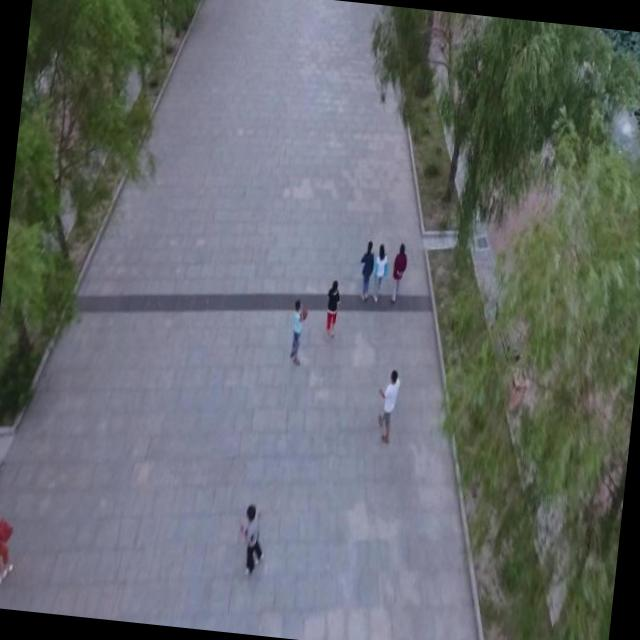person: (236, 496, 269, 580), (373, 368, 404, 443), (286, 296, 310, 366), (0, 505, 19, 591), (321, 276, 345, 342), (388, 238, 410, 304), (356, 240, 378, 300), (370, 243, 391, 304)
